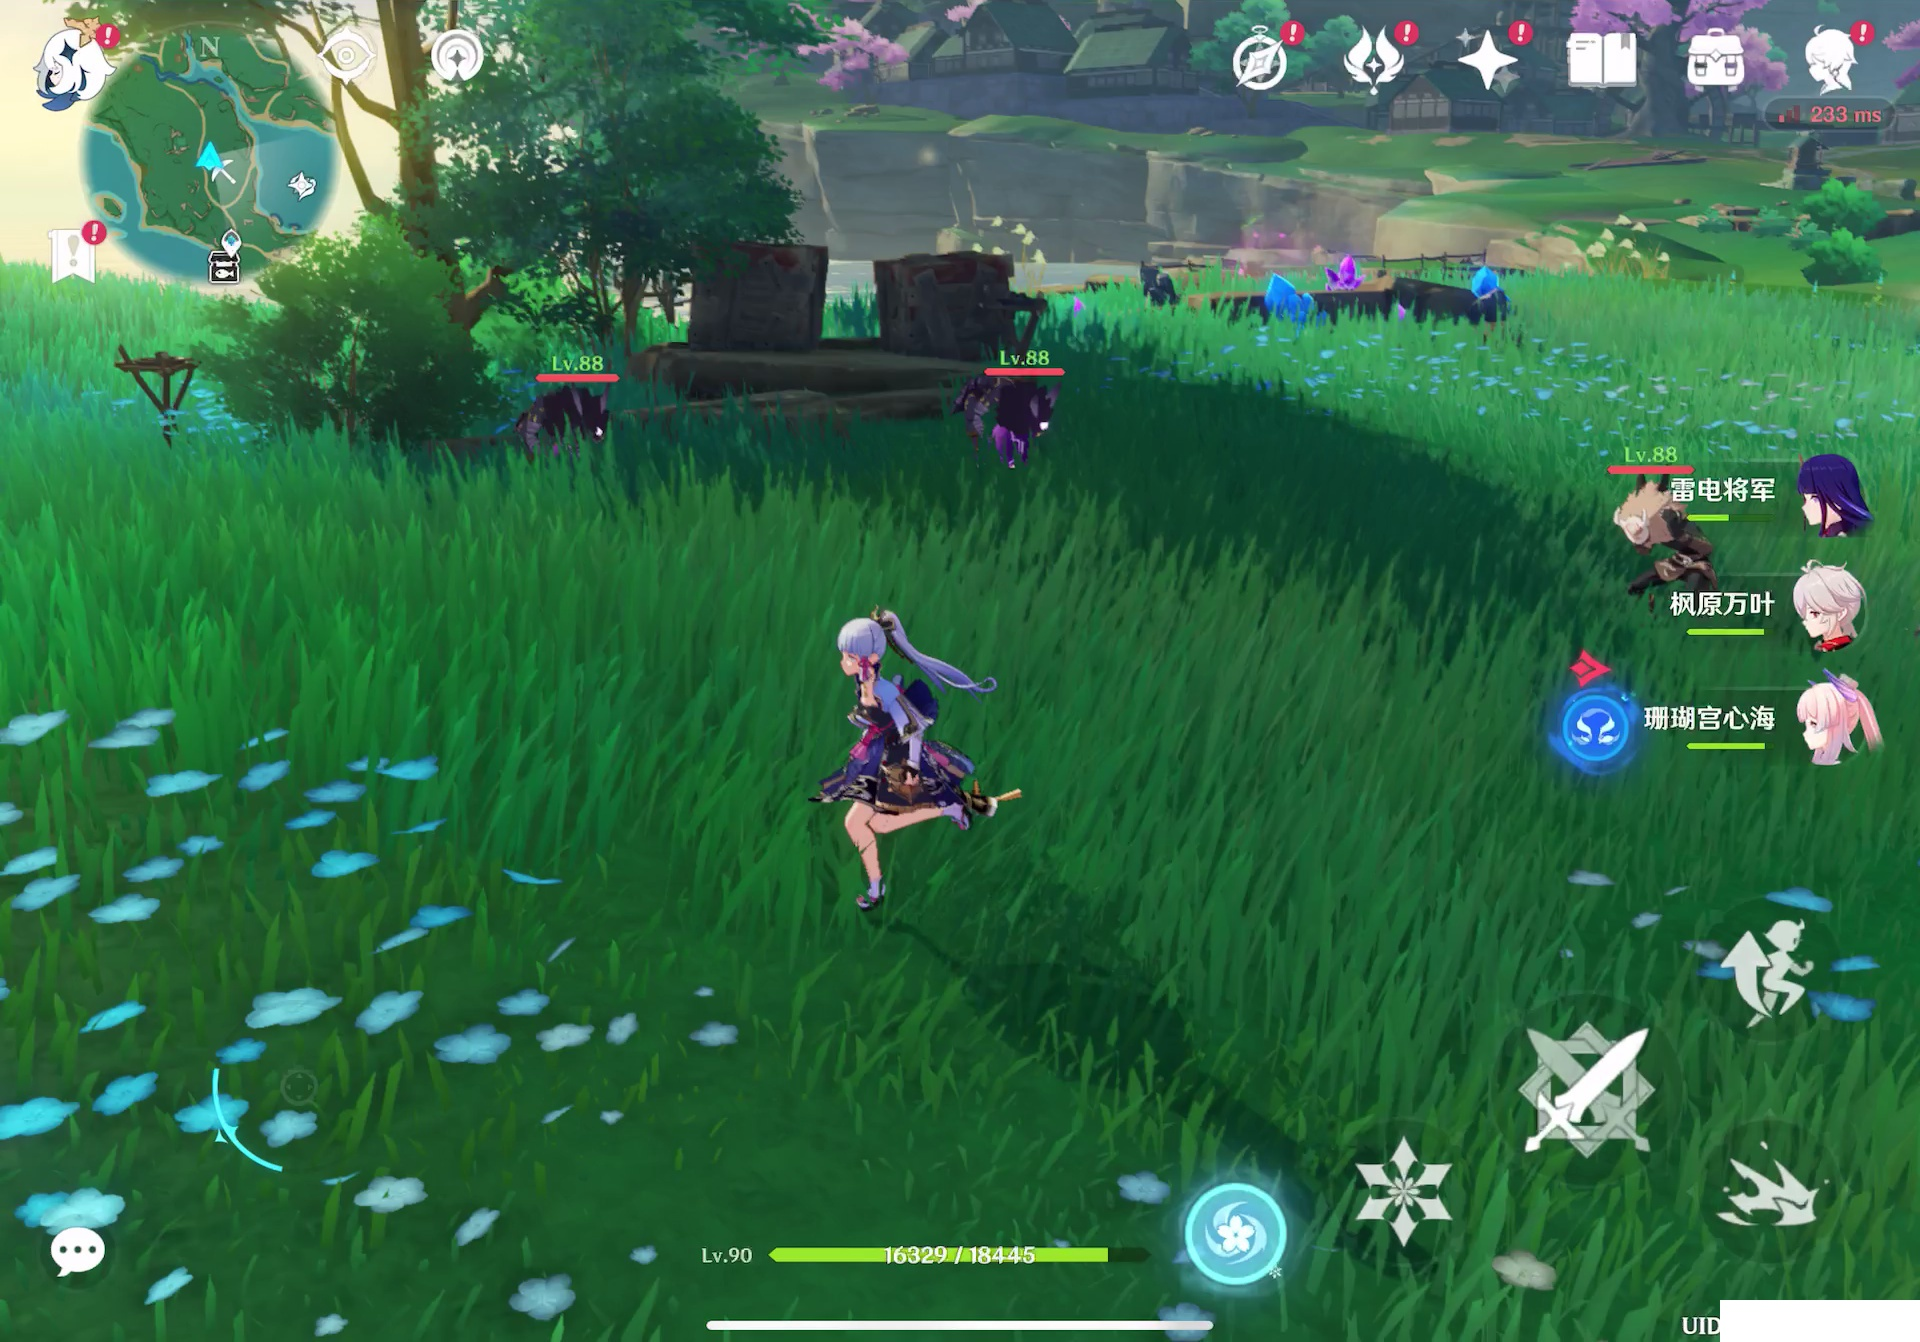丘丘人: (953, 376, 1064, 465), (508, 389, 622, 473), (1611, 497, 1697, 589)
神里绫龟: (805, 618, 995, 877)
